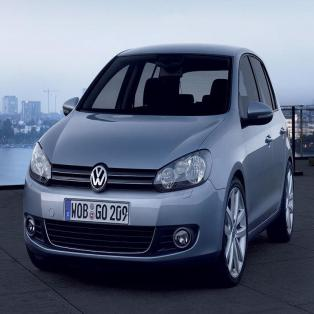Auto: (22, 44, 294, 285)
